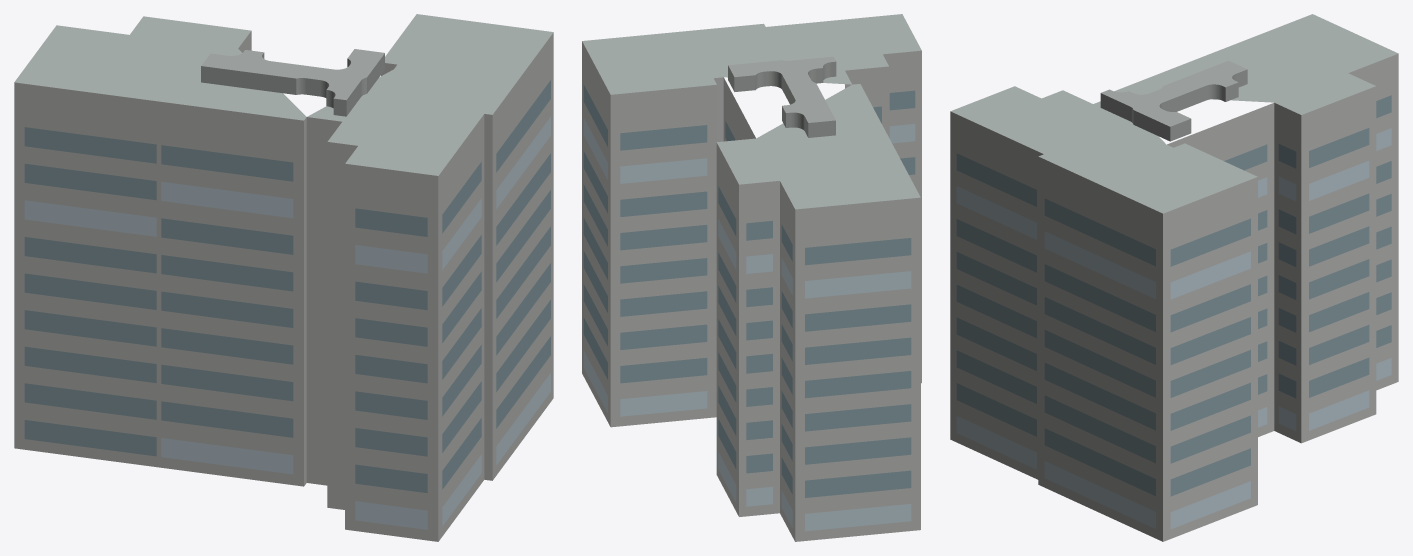
The model's file is fallback-gaepo-xi-presidence-416.glb.
3 views of the same model, side by side, from view 1: azimuth 30°, elevation 25°; view 2: azimuth 150°, elevation 25°; view 3: azimuth 270°, elevation 25° (orthographic). The views are drawn at different scales.
Parts seen in each view (by area): view 1: fallback-gaepo-xi-presidence-416; view 2: fallback-gaepo-xi-presidence-416; view 3: fallback-gaepo-xi-presidence-416.
Part boxes in pixels (x1=…): fallback-gaepo-xi-presidence-416: x1=14, y1=14, x2=553, y2=541; fallback-gaepo-xi-presidence-416: x1=582, y1=14, x2=921, y2=541; fallback-gaepo-xi-presidence-416: x1=950, y1=14, x2=1398, y2=541.
Bounding box in the file's own units: 39.79 × 31.87 × 37.76.
